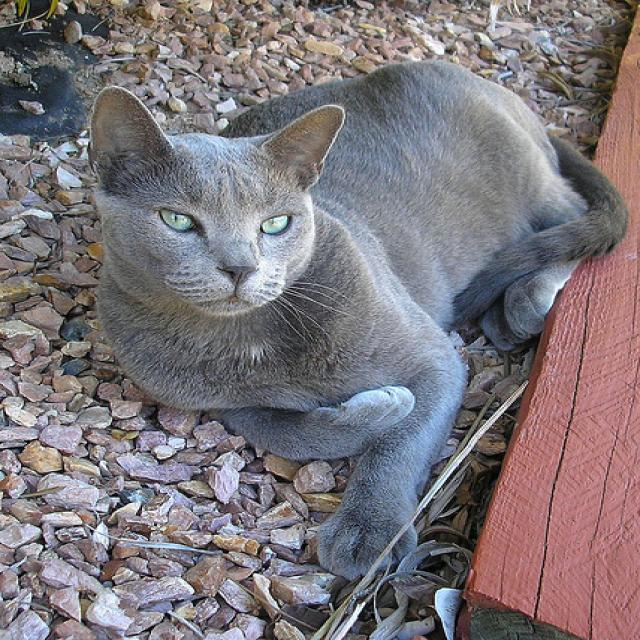Russian_Blue: (86, 84, 347, 320)
